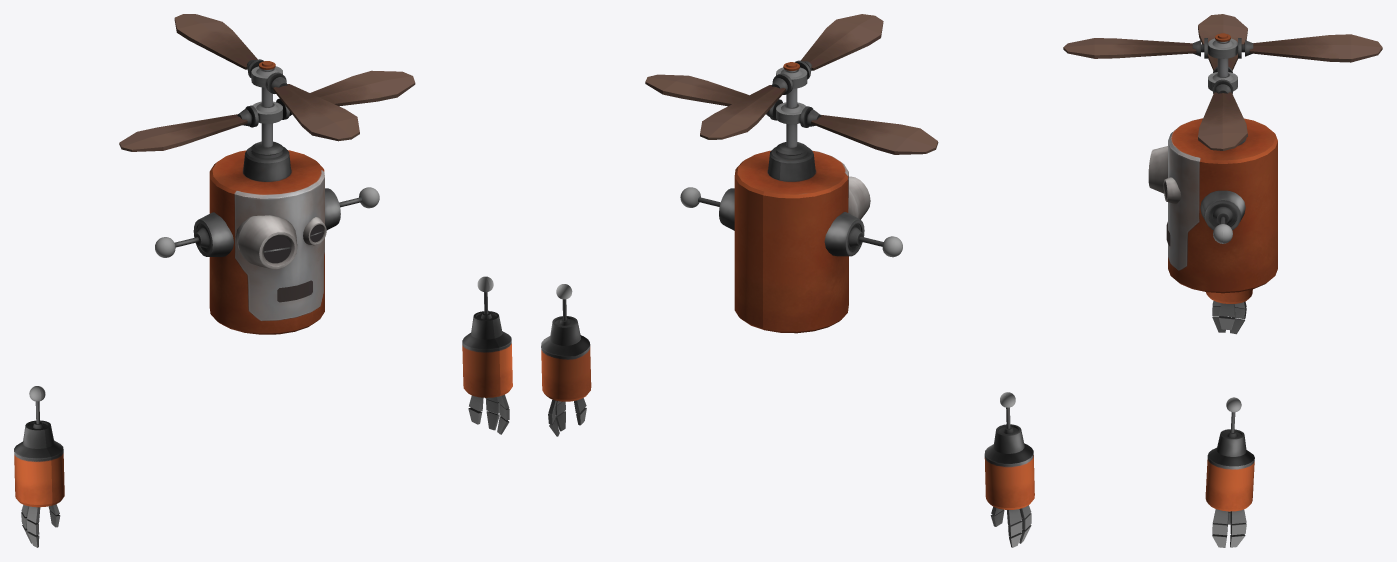
File: RobotHead_PropellerHead_01.obj
3 views of the same model, side by side, from view 1: azimuth 30°, elevation 25°; view 2: azimuth 150°, elevation 25°; view 3: azimuth 270°, elevation 25° (orthographic). The views are drawn at different scales.
Visible parts, largest first — view 1: Head, ArmLeft, ArmRight; view 2: Head, ArmRight, ArmLeft; view 3: Head, ArmLeft, ArmRight.
Boxes of the visible parts, <box> form: Head: <box>119,14,415,334</box>; ArmLeft: <box>462,276,512,434</box>; ArmRight: <box>14,386,64,547</box>; Head: <box>645,14,938,333</box>; ArmRight: <box>984,392,1034,547</box>; ArmLeft: <box>541,284,591,436</box>; Head: <box>1063,14,1382,293</box>; ArmLeft: <box>1205,397,1254,547</box>; ArmRight: <box>1206,289,1252,334</box>.
Size of the model in its own units: 0.984 by 0.8179 by 0.5839.
